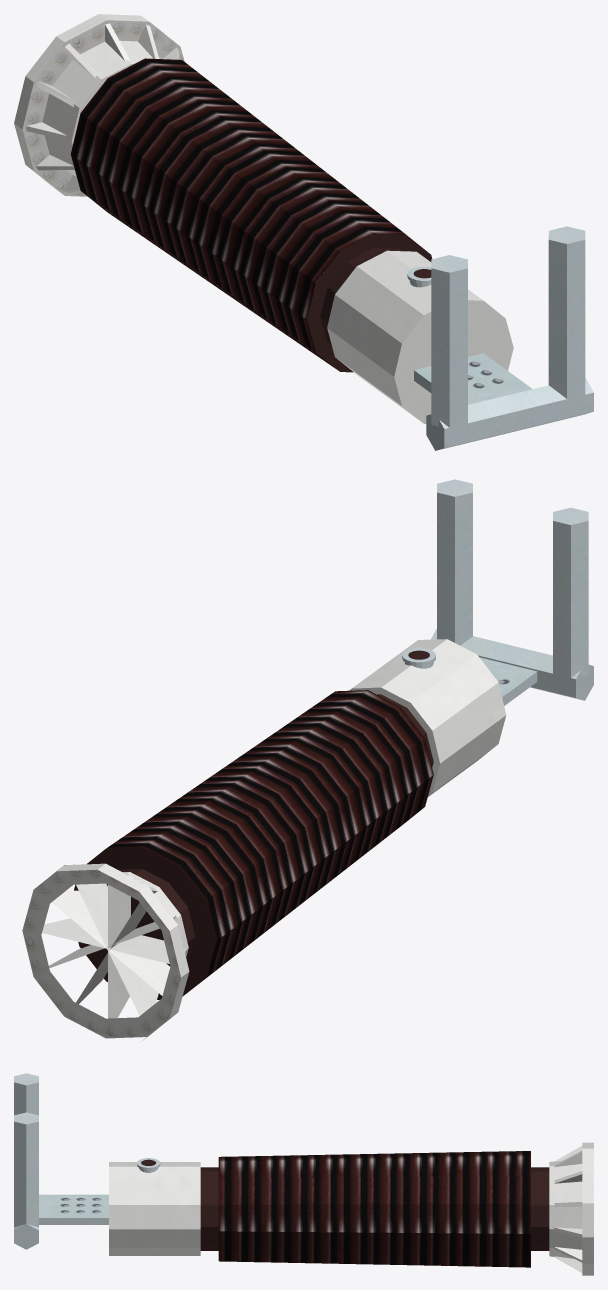
File: 35kvtg017-geode.glb
3 renders of one model, top to bottom at view 1: azimuth 30°, elevation 25°; view 2: azimuth 150°, elevation 25°; view 3: azimuth 270°, elevation 25°, orthographic. The views are drawn at different scales.
Parts seen in each view (by area): view 1: Node; view 2: Node; view 3: Node.
Part boxes in pixels (<box>): Node: <box>14,14,593,450</box>; Node: <box>22,479,593,1040</box>; Node: <box>14,1073,593,1275</box>.
Size of the model in its own units: 0.3368 by 0.4696 by 1.46.
Materials: 6 (6 with a texture image).
